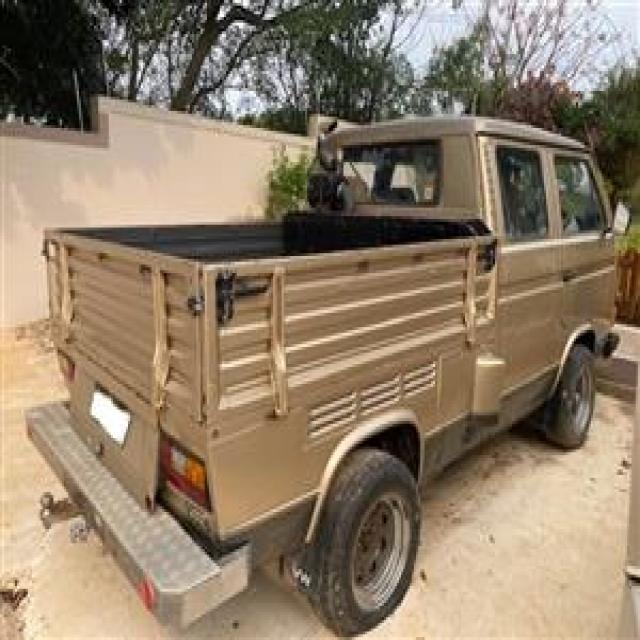Pickup Trucks: (26, 94, 632, 634)
